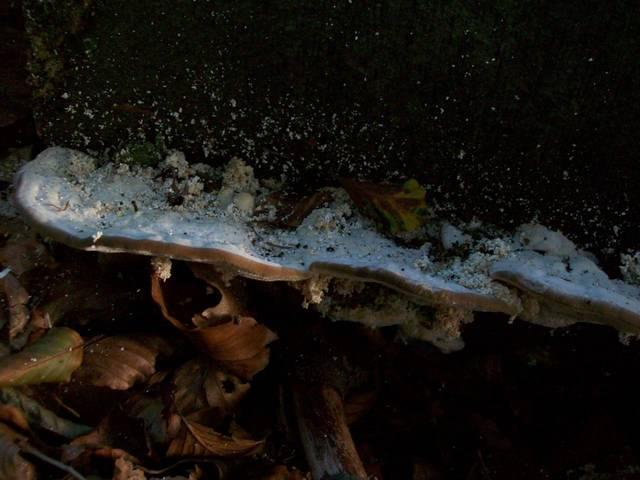Non-edible Mushroom: (9, 141, 638, 375)
